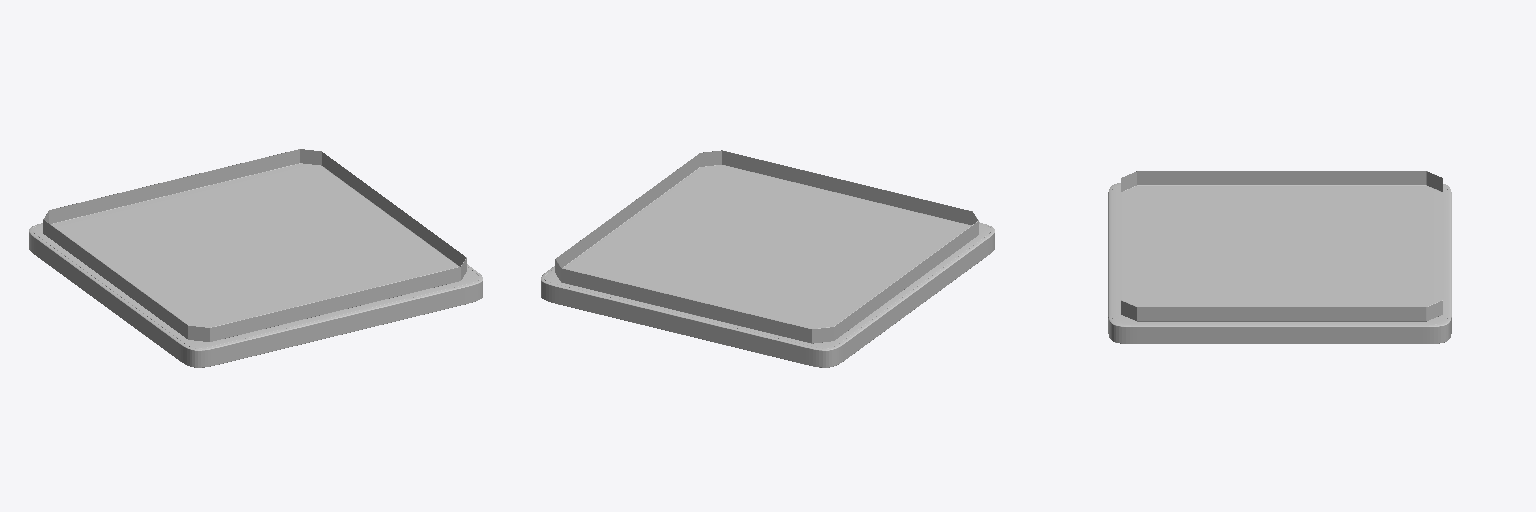
Rendered from lamp-2.obj.
3 views of the same model, side by side, from view 1: azimuth 30°, elevation 25°; view 2: azimuth 150°, elevation 25°; view 3: azimuth 270°, elevation 25° (orthographic).
Visible parts, largest first — view 1: Object001, Box001, Object; view 2: Object001, Box001, Object; view 3: Object001, Box001, Object.
Boxes of the visible parts, x1=… form: Object001: x1=32, y1=164, x2=479, y2=348; Box001: x1=43, y1=149, x2=466, y2=341; Object: x1=29, y1=223, x2=482, y2=367; Object001: x1=544, y1=165, x2=991, y2=348; Box001: x1=555, y1=150, x2=978, y2=343; Object: x1=541, y1=222, x2=994, y2=367; Object001: x1=1112, y1=184, x2=1447, y2=324; Box001: x1=1121, y1=171, x2=1442, y2=321; Object: x1=1108, y1=183, x2=1451, y2=343.
Bounding box in the file's own units: 64 × 6.98 × 64.